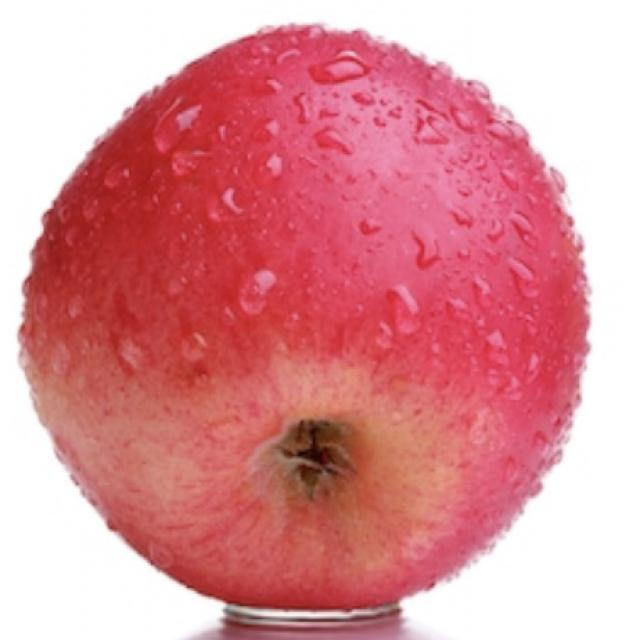Fresh Apple: (32, 40, 585, 622)
